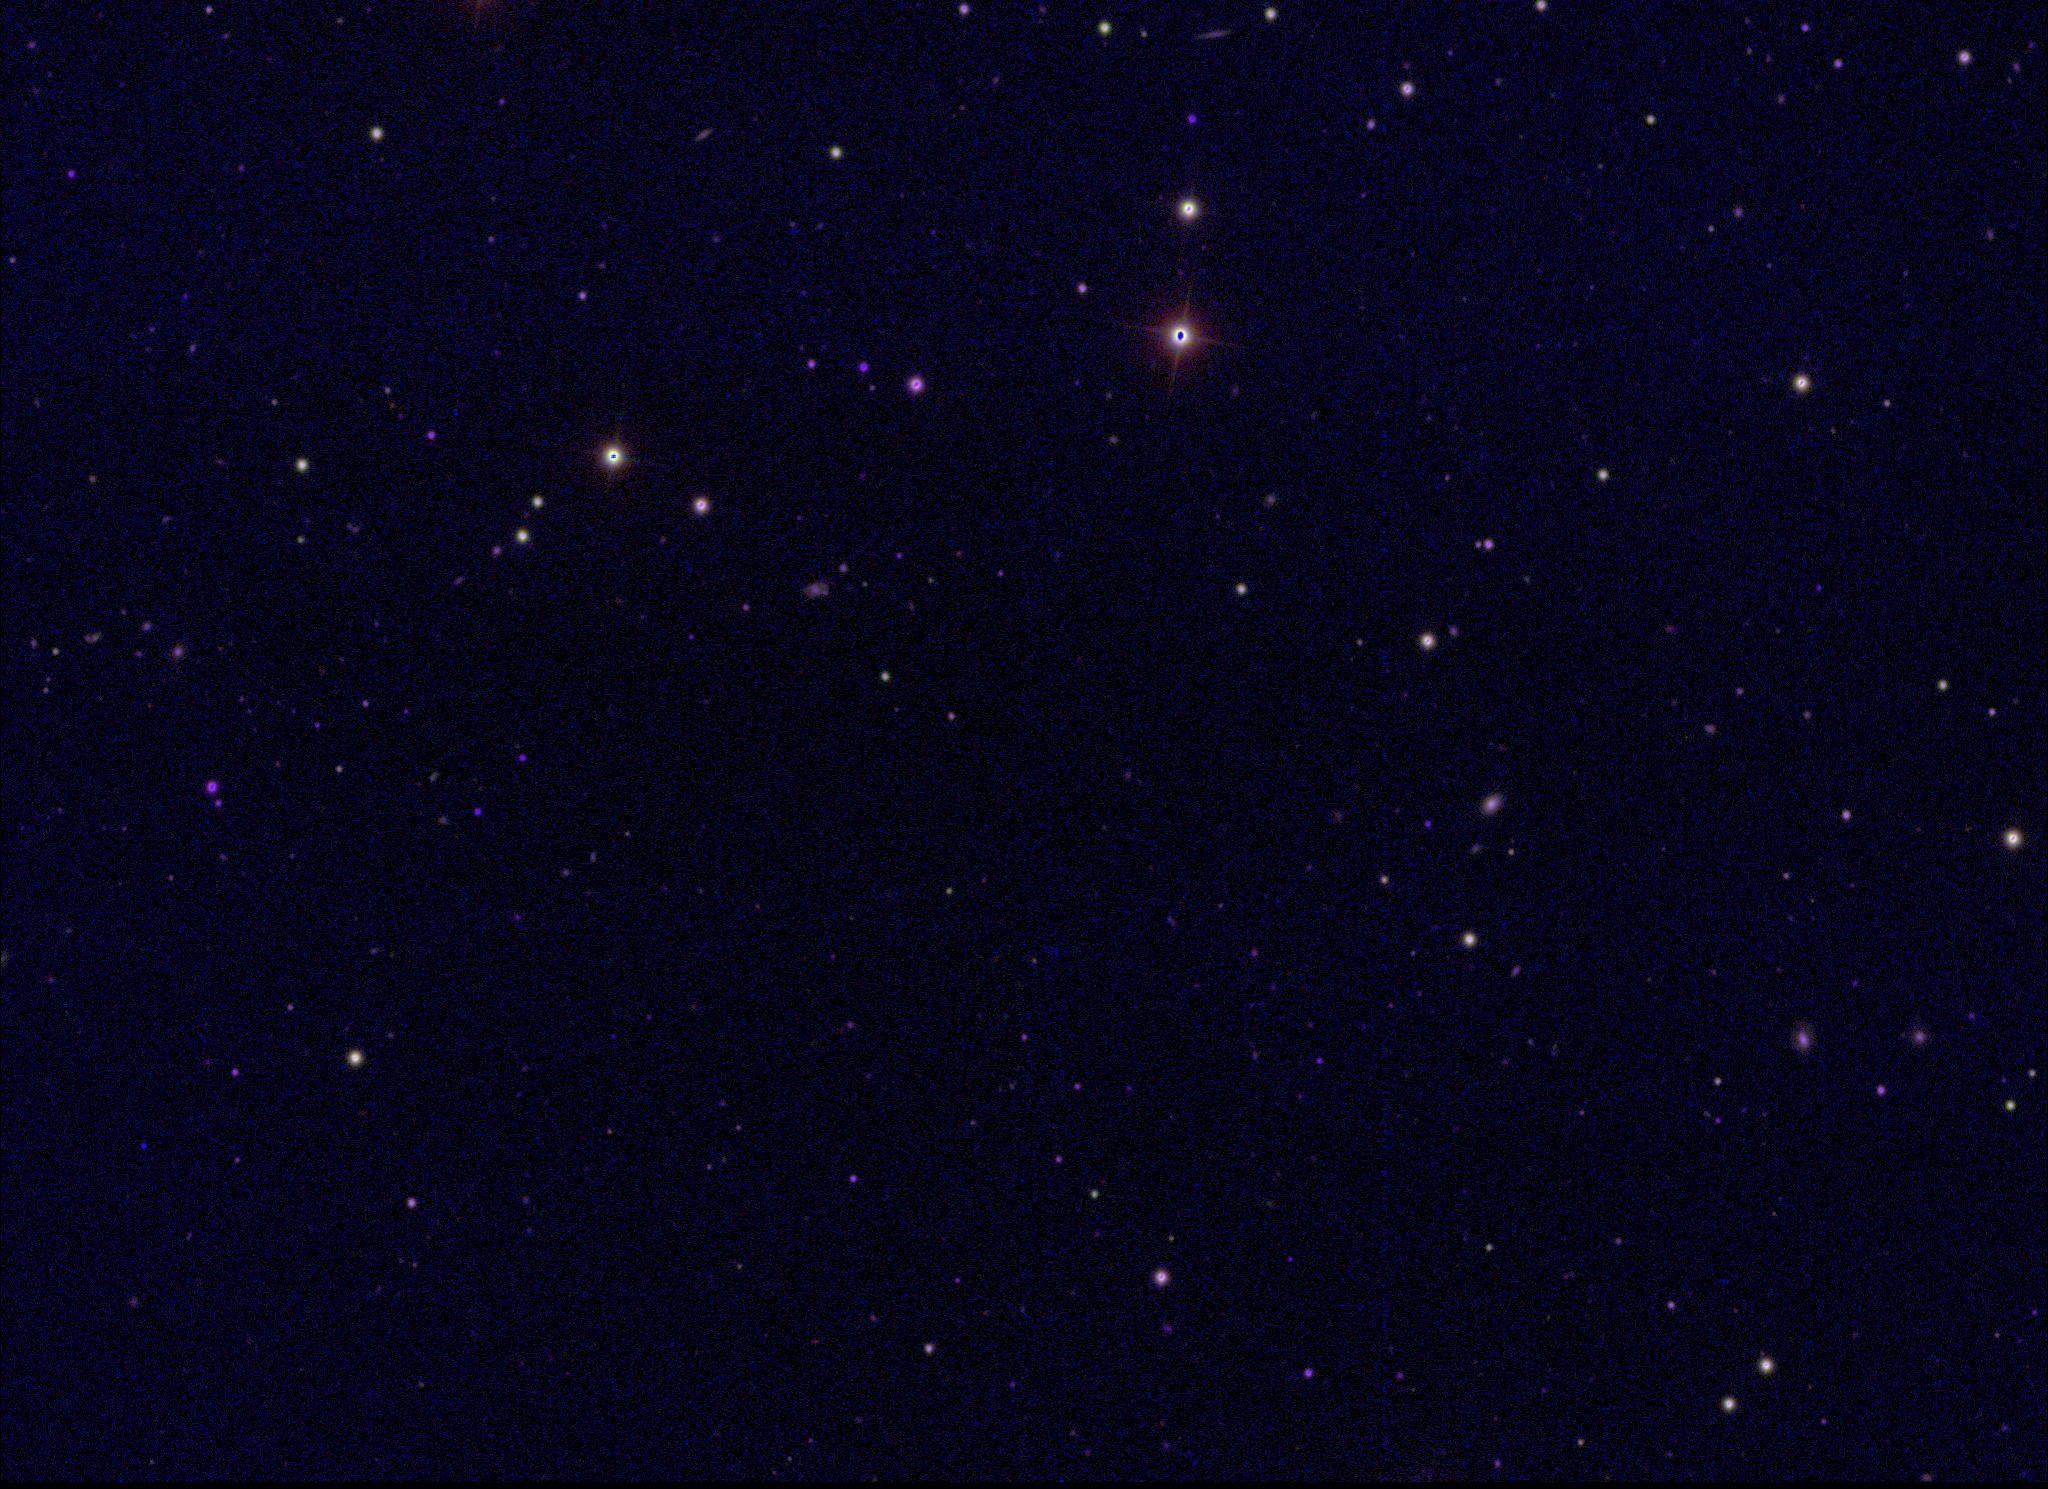L: (137, 1141, 149, 1153)
